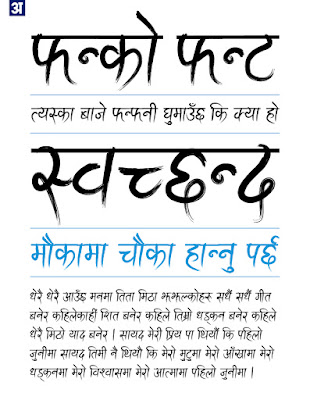text: (29, 143, 280, 222), (31, 11, 163, 86), (174, 34, 279, 85), (31, 234, 108, 269), (118, 234, 175, 269), (184, 243, 235, 273), (246, 236, 278, 270), (162, 102, 205, 125), (111, 102, 157, 123), (28, 107, 75, 123), (52, 308, 98, 323), (89, 363, 132, 379), (161, 289, 213, 302), (79, 102, 108, 122), (29, 366, 68, 380), (28, 345, 58, 361), (223, 346, 256, 360), (220, 364, 247, 381), (153, 366, 188, 379), (196, 310, 225, 325), (190, 364, 217, 380), (251, 307, 277, 323), (237, 326, 264, 341), (208, 102, 228, 122), (233, 107, 260, 121), (119, 344, 142, 360), (145, 308, 171, 322), (61, 289, 88, 302), (119, 328, 144, 342), (28, 308, 50, 323), (86, 345, 108, 360), (172, 307, 193, 322), (179, 348, 201, 362), (115, 288, 135, 303), (122, 308, 142, 323), (45, 326, 65, 341), (89, 326, 109, 341), (137, 288, 158, 302), (228, 308, 249, 322), (266, 101, 278, 125), (59, 349, 85, 360), (70, 363, 87, 379), (161, 344, 176, 362), (165, 326, 182, 341), (134, 364, 151, 379), (254, 289, 272, 303), (198, 327, 219, 339), (100, 308, 119, 321), (89, 292, 113, 302), (259, 345, 275, 360), (216, 289, 233, 303), (235, 289, 252, 303), (29, 326, 45, 340), (204, 345, 220, 359), (29, 288, 44, 302), (147, 327, 162, 341), (68, 329, 86, 340), (46, 288, 60, 302), (145, 345, 158, 359), (222, 326, 234, 341), (110, 346, 119, 359), (184, 330, 194, 340)
